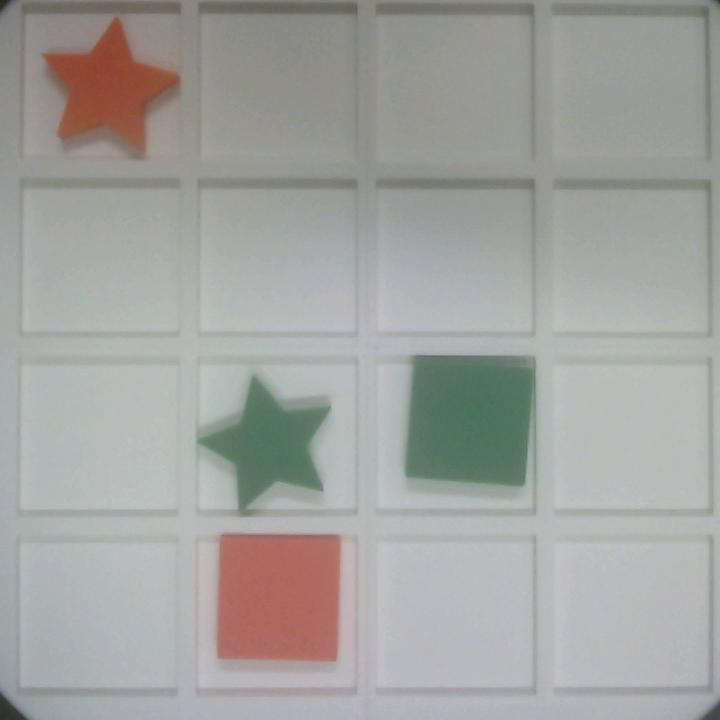Green square: (406, 355, 532, 493)
Green star: (196, 378, 334, 508)
Orange square: (215, 531, 344, 665)
Orange star: (42, 17, 182, 159)
